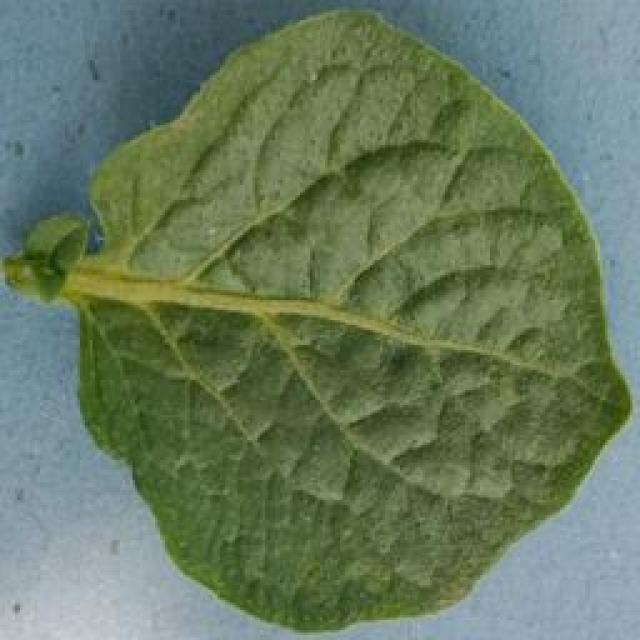Potato_Healthy: (3, 8, 623, 627)
